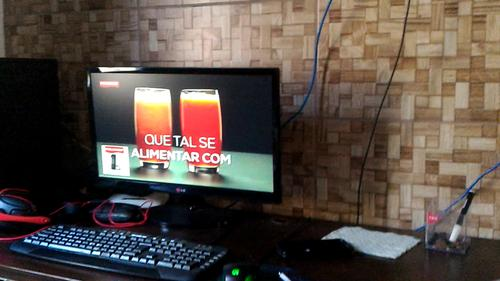Polishop #1: (101, 144, 129, 178)
